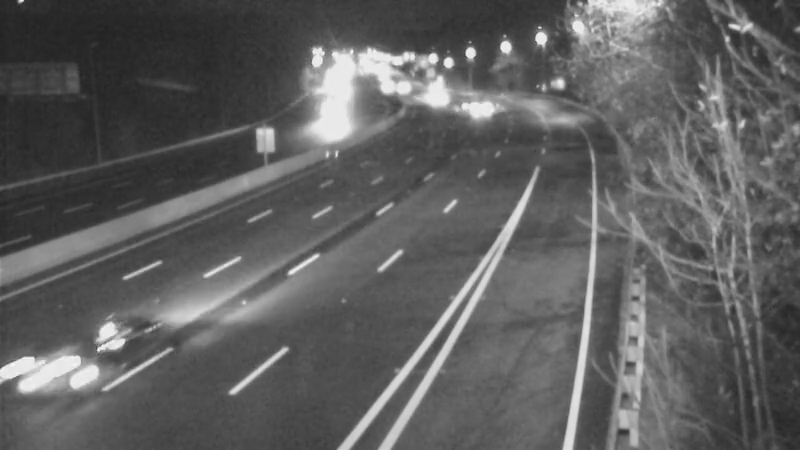vehicle: (1, 326, 105, 436), (403, 60, 453, 110), (409, 71, 459, 121), (458, 85, 508, 135), (302, 92, 352, 142)
